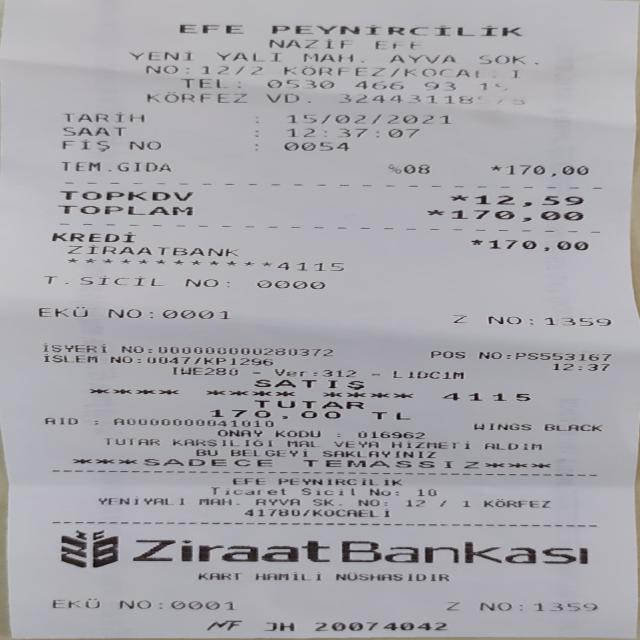text: (340, 537, 586, 564), (132, 536, 326, 562), (271, 21, 520, 38), (68, 242, 235, 258), (337, 93, 529, 106), (157, 345, 330, 357), (286, 113, 449, 125), (451, 208, 582, 222), (58, 189, 191, 202), (57, 203, 190, 216), (404, 65, 525, 79), (308, 458, 477, 468), (114, 417, 273, 427), (286, 126, 417, 138), (147, 90, 250, 105), (210, 408, 338, 420), (281, 64, 390, 78), (315, 620, 445, 631), (254, 377, 361, 390), (489, 238, 585, 252), (321, 448, 433, 460), (142, 457, 274, 467), (60, 160, 168, 172), (474, 194, 582, 206), (505, 162, 585, 178), (81, 272, 160, 288), (253, 398, 362, 409), (62, 110, 142, 124), (277, 477, 400, 486), (162, 306, 228, 322), (53, 230, 134, 243), (442, 390, 528, 402), (172, 437, 272, 447), (270, 37, 344, 50), (178, 21, 242, 36), (258, 276, 321, 291), (516, 351, 609, 361), (230, 446, 306, 458), (267, 77, 332, 91), (215, 49, 279, 63), (390, 51, 454, 65), (128, 48, 191, 62), (278, 259, 341, 273), (97, 496, 182, 506), (170, 600, 240, 612), (62, 125, 124, 138), (208, 62, 264, 76), (392, 440, 468, 450), (39, 304, 86, 320), (310, 508, 390, 517), (389, 370, 469, 379), (336, 571, 400, 582), (255, 572, 324, 582), (180, 76, 228, 90), (203, 356, 270, 366), (210, 486, 284, 495), (544, 316, 608, 326), (358, 429, 422, 439), (478, 52, 522, 66), (39, 343, 107, 352), (355, 78, 401, 91), (483, 499, 548, 508), (282, 141, 346, 150), (304, 50, 344, 64), (51, 596, 97, 608), (42, 353, 96, 363), (144, 62, 181, 76), (196, 570, 239, 582), (368, 39, 419, 49), (553, 362, 609, 371), (545, 422, 601, 431), (484, 441, 540, 450), (534, 602, 596, 610), (408, 571, 448, 583), (105, 437, 158, 446), (267, 91, 301, 105), (109, 305, 138, 321), (146, 354, 192, 364), (186, 274, 216, 289), (302, 487, 352, 496), (275, 428, 319, 438), (244, 508, 298, 516), (481, 79, 511, 93), (332, 439, 377, 448), (371, 409, 407, 420), (217, 428, 261, 437), (255, 497, 299, 506), (474, 422, 530, 429), (424, 79, 454, 92), (263, 621, 299, 631), (208, 366, 240, 377), (129, 139, 158, 151), (120, 597, 149, 609), (273, 367, 304, 378), (206, 620, 240, 630), (321, 368, 353, 378), (405, 162, 427, 176), (44, 272, 66, 286), (430, 349, 464, 358), (488, 315, 520, 324), (44, 416, 75, 425), (479, 601, 510, 610), (285, 439, 315, 448), (231, 477, 263, 485), (198, 497, 225, 506), (450, 193, 466, 206), (196, 446, 216, 456), (416, 487, 436, 497), (426, 208, 442, 220), (109, 354, 128, 364), (405, 498, 424, 508), (121, 345, 142, 354), (368, 488, 388, 497), (356, 498, 376, 507), (306, 91, 318, 105), (312, 498, 328, 507), (185, 63, 196, 76), (393, 65, 404, 78), (479, 351, 496, 359), (470, 238, 479, 250), (452, 314, 464, 323), (232, 76, 239, 90), (491, 162, 498, 176), (446, 602, 458, 610), (355, 51, 362, 64), (387, 161, 393, 175), (253, 115, 261, 125), (302, 508, 310, 516), (371, 369, 377, 379), (462, 499, 468, 507), (335, 498, 340, 507), (381, 498, 386, 507), (148, 306, 151, 320), (133, 355, 138, 363), (196, 356, 201, 364), (392, 488, 397, 496), (508, 352, 513, 359), (92, 417, 96, 425), (254, 141, 257, 151), (146, 345, 149, 354), (255, 126, 257, 138), (313, 368, 315, 378), (530, 316, 532, 324), (336, 430, 338, 438), (519, 602, 520, 610), (228, 275, 228, 289)
